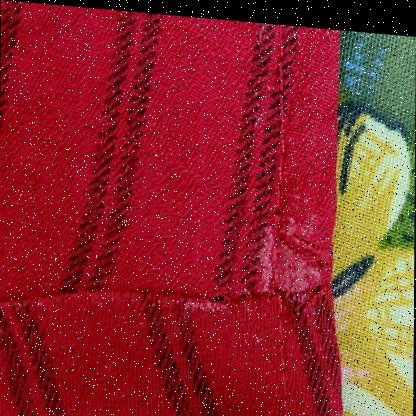spot: (251, 203, 321, 299), (185, 287, 223, 328), (252, 91, 266, 124), (252, 19, 268, 40)
